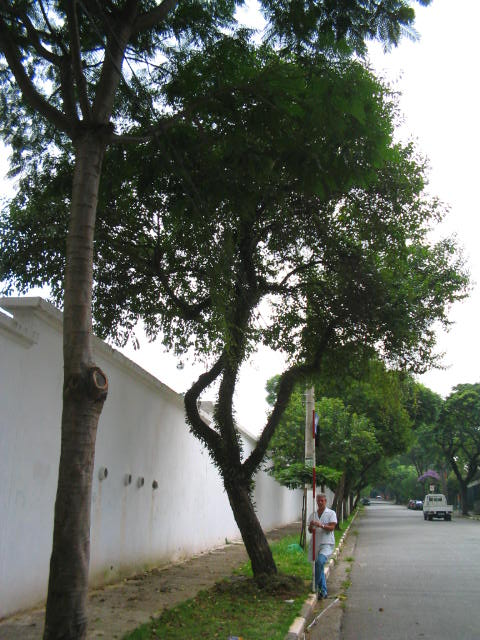crown: (7, 35, 467, 389)
stem: (206, 471, 291, 583)
stick: (301, 409, 323, 594)
tree: (4, 33, 469, 582)
